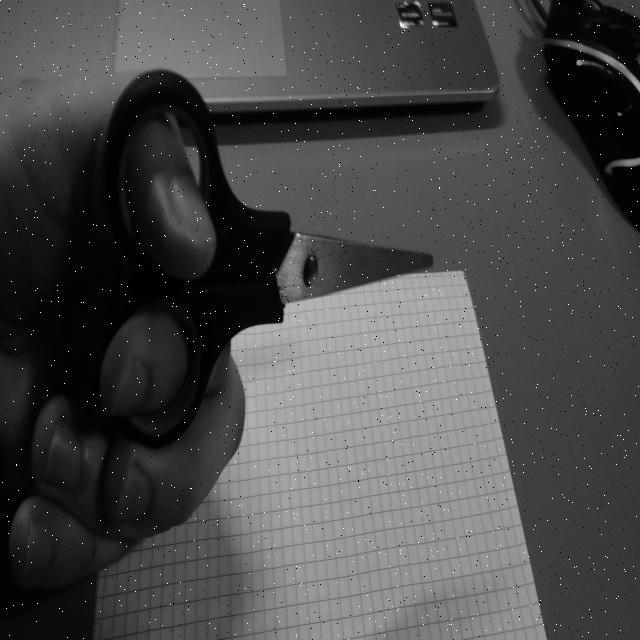scissors: (98, 61, 438, 455)
